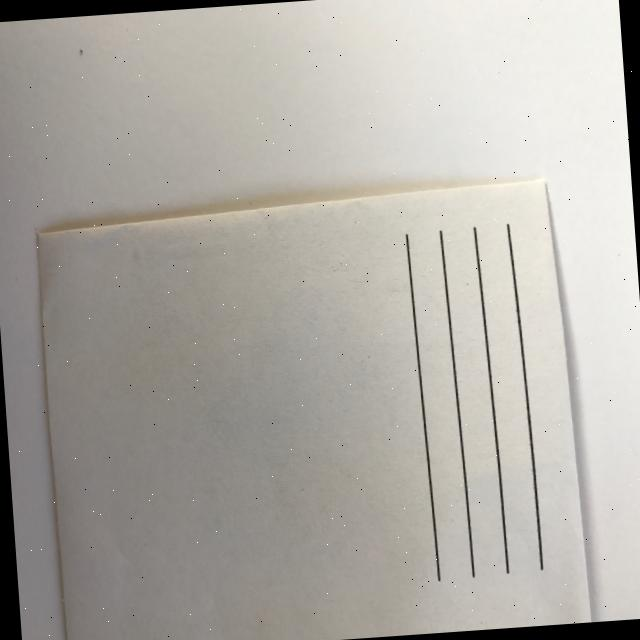paper: (33, 177, 591, 640)
